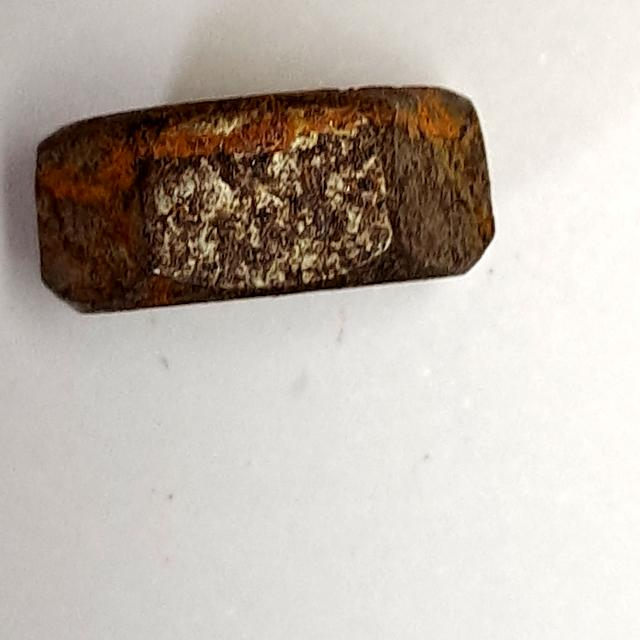Side_Rust: (19, 71, 517, 327)
